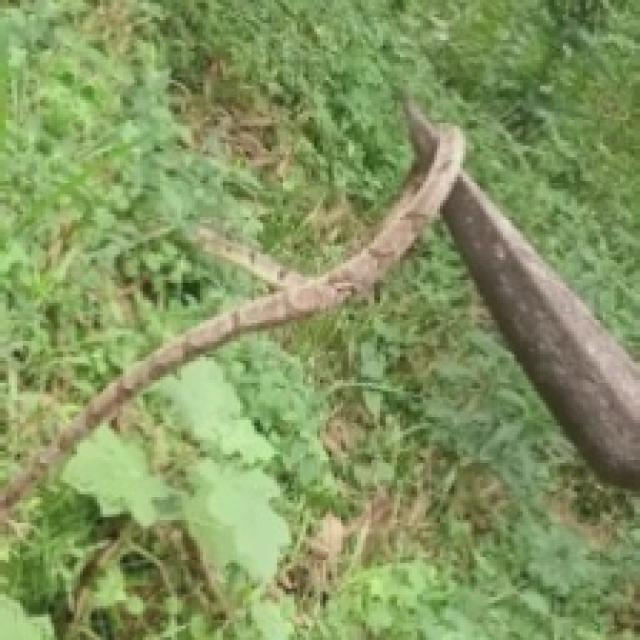dog-toothed cat snake: (0, 128, 465, 516)
